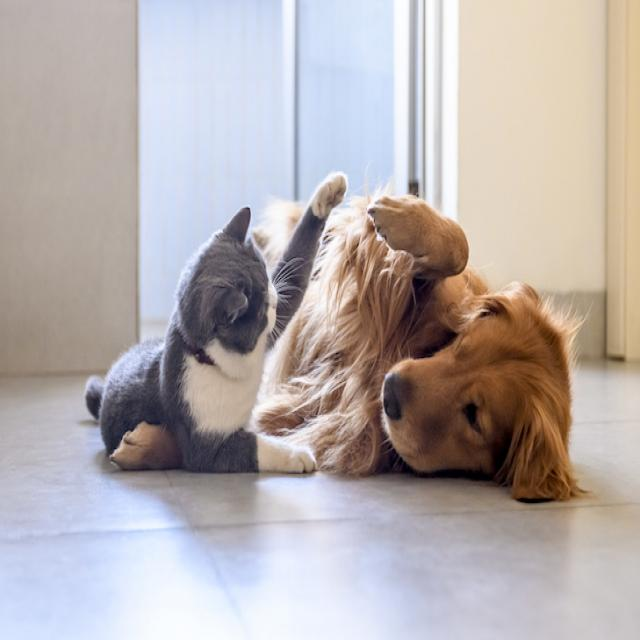cat: (71, 203, 324, 481)
dog: (268, 185, 594, 502)
